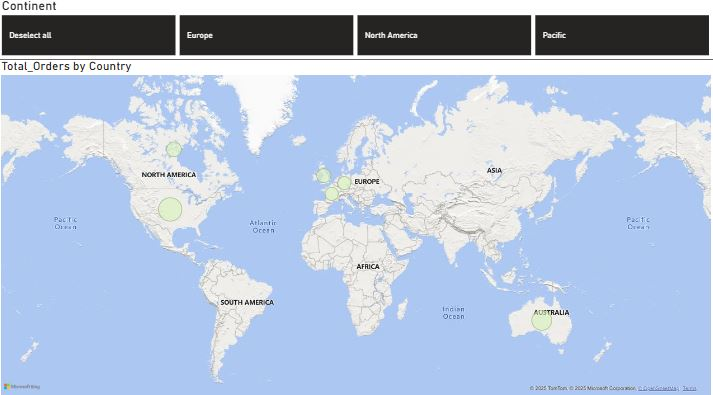

The page's visual inventory and layout, read from the dashboard file:
{"tool":"powerbi","page":{"name":"Page 6","canvas":[1280,720],"ordinal":6},"visuals":[{"type":"map","fields":{"Category":["Territory Lookup.Country"],"Size":["Measure_Table.Total_Orders"]},"box":[0,112,1280,608.3],"z":0},{"type":"advancedSlicerVisual","fields":{"Values":["Territory Lookup.Continent"]},"box":[0,0,1280,112],"z":1000}]}

Visuals, with their boxes in screenshot pixels (x1, y1, x2, y2), scaled from the page's 1280x720 canvas onto the 713x395 screenshot:
map - Territory Lookup.Country x Measure_Table.Total_Orders: {"x1": 0, "y1": 61, "x2": 712, "y2": 394}
advancedSlicerVisual - Territory Lookup.Continent: {"x1": 0, "y1": 0, "x2": 712, "y2": 61}
